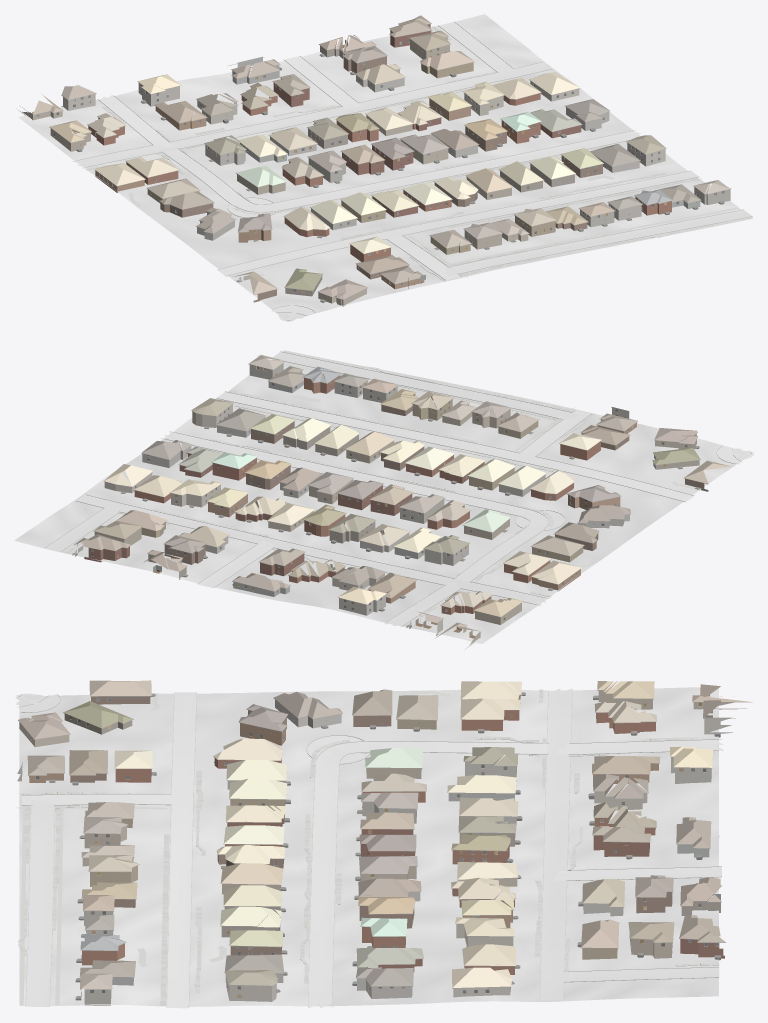
The picture shows the model from 3 angles, top to bottom: view 1: azimuth 30°, elevation 25°; view 2: azimuth 150°, elevation 25°; view 3: azimuth 270°, elevation 25°; orthographic projection. The views are drawn at different scales.
Visible parts, largest first — view 1: ground, roof, concrete, wall, wall_stucco, curb, walk, detail, asphalt, wall_stone, glass; view 2: ground, roof, concrete, wall, wall_stucco, detail, walk, curb, asphalt, wall_stone, glass; view 3: ground, roof, concrete, wall, walk, asphalt, wall_stucco, detail, curb, wall_stone, glass, mark_w (+1 smaller).
Boxes of the visible parts, x1,y1,x2,y2 form: ground: (18,14,751,318); roof: (33,15,730,299); concrete: (72,22,751,321); wall: (50,24,671,302); wall_stucco: (18,56,730,306); curb: (73,21,752,320); walk: (86,26,753,281); detail: (20,23,731,302); asphalt: (217,171,698,275); wall_stone: (138,69,641,288); glass: (54,40,723,291); ground: (14,351,742,643); roof: (73,354,731,638); concrete: (45,351,753,625); wall: (84,375,708,624); wall_stucco: (104,363,696,648); detail: (72,359,708,638); walk: (64,350,700,621); curb: (44,351,751,626); asphalt: (217,392,693,501); wall_stone: (142,381,629,615); glass: (91,366,687,620); ground: (19,687,718,1006); roof: (18,680,752,989); concrete: (15,688,723,1008); wall: (29,690,724,974); walk: (15,689,719,1005); asphalt: (167,692,196,1008); wall_stucco: (19,702,746,1005); detail: (18,690,751,1000); curb: (17,690,722,1007); wall_stone: (17,700,711,998); glass: (21,698,719,993); mark_w: (43,692,574,1007).
Bounding box in the file's own units: 256 × 18.27 × 264.
